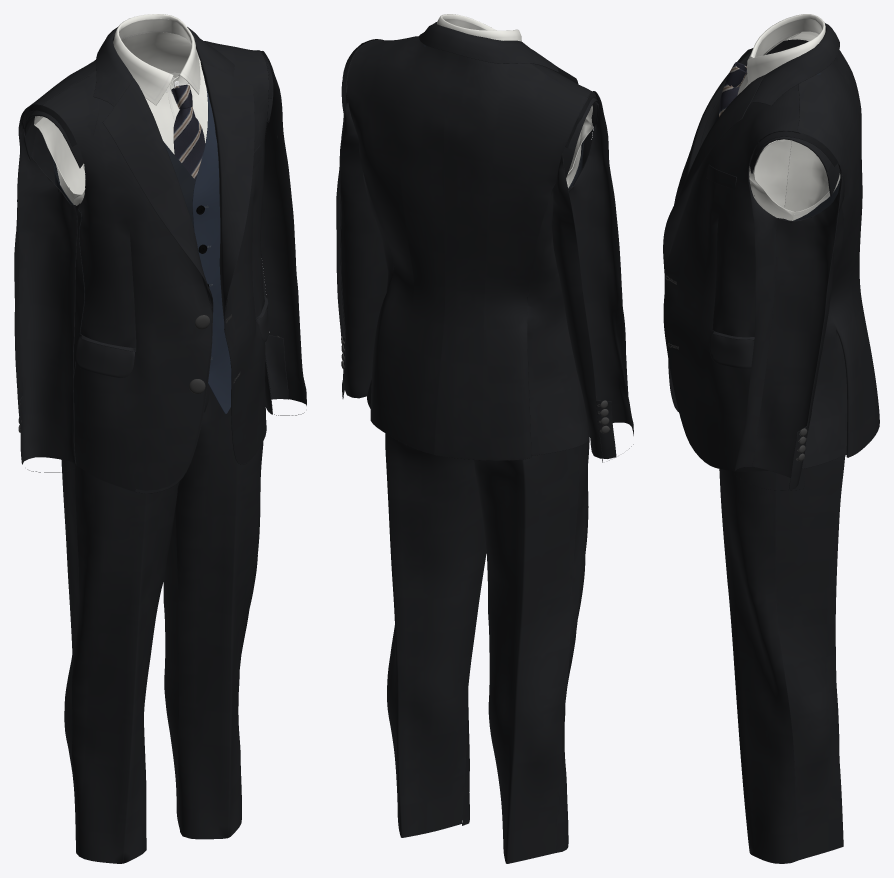
Rendered from man_black_business_suit.glb.
3 views of the same model, side by side, from view 1: azimuth 30°, elevation 25°; view 2: azimuth 150°, elevation 25°; view 3: azimuth 270°, elevation 25° (orthographic). The views are drawn at different scales.
Size of the model in its own units: 543 by 1517 by 372.
9 materials, 1 textured.
